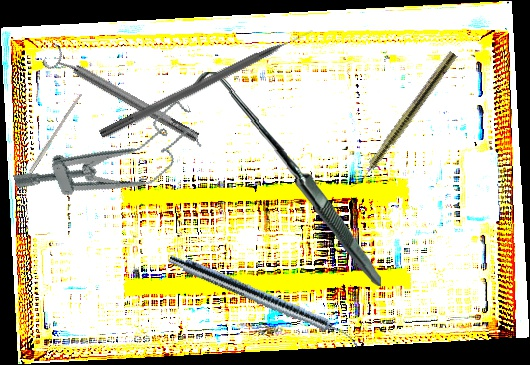Fixation Ring: (40, 40, 204, 152)
Handpiece: (165, 251, 364, 350), (348, 49, 459, 194)
Hook Surgical: (185, 71, 389, 286)
Pusher: (98, 25, 317, 142)
Scalpel Handle: (16, 92, 84, 191)
Speculum: (7, 96, 210, 228)
